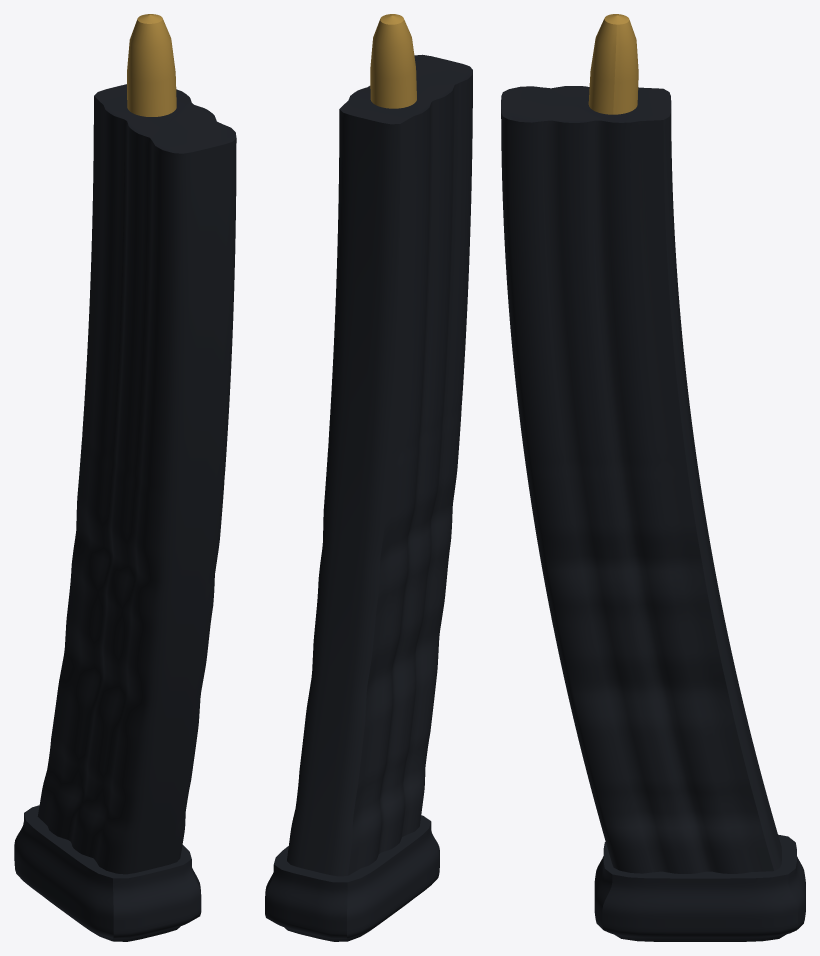
The model's file is weapon_rifle_magazine.glb.
The picture shows the model from 3 angles, left to right: view 1: azimuth 30°, elevation 25°; view 2: azimuth 150°, elevation 25°; view 3: azimuth 270°, elevation 25°; orthographic projection. The views are drawn at different scales.
Parts seen in each view (by area): view 1: rifle_mag_body, rifle_mag_floorplate, rifle_top_round; view 2: rifle_mag_body, rifle_mag_floorplate, rifle_top_round; view 3: rifle_mag_body, rifle_mag_floorplate, rifle_top_round.
Part boxes in pixels (x1,y1,x2,y2): rifle_mag_body: [37, 84, 236, 874]; rifle_mag_floorplate: [14, 805, 201, 941]; rifle_top_round: [127, 14, 176, 116]; rifle_mag_body: [287, 54, 472, 876]; rifle_mag_floorplate: [265, 815, 439, 941]; rifle_top_round: [370, 14, 416, 108]; rifle_mag_body: [501, 86, 781, 873]; rifle_mag_floorplate: [594, 834, 805, 941]; rifle_top_round: [588, 14, 638, 114].
Bounding box in the file's own units: 0.028 × 0.2236 × 0.0681.
